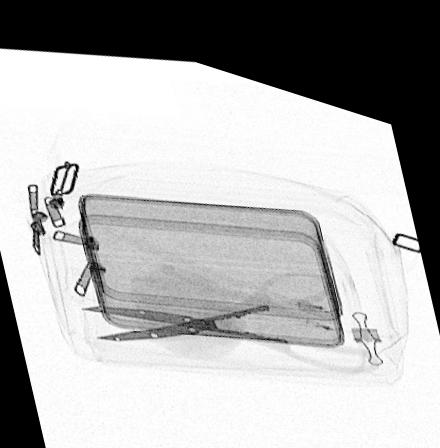Scissors: (80, 253, 381, 352)
